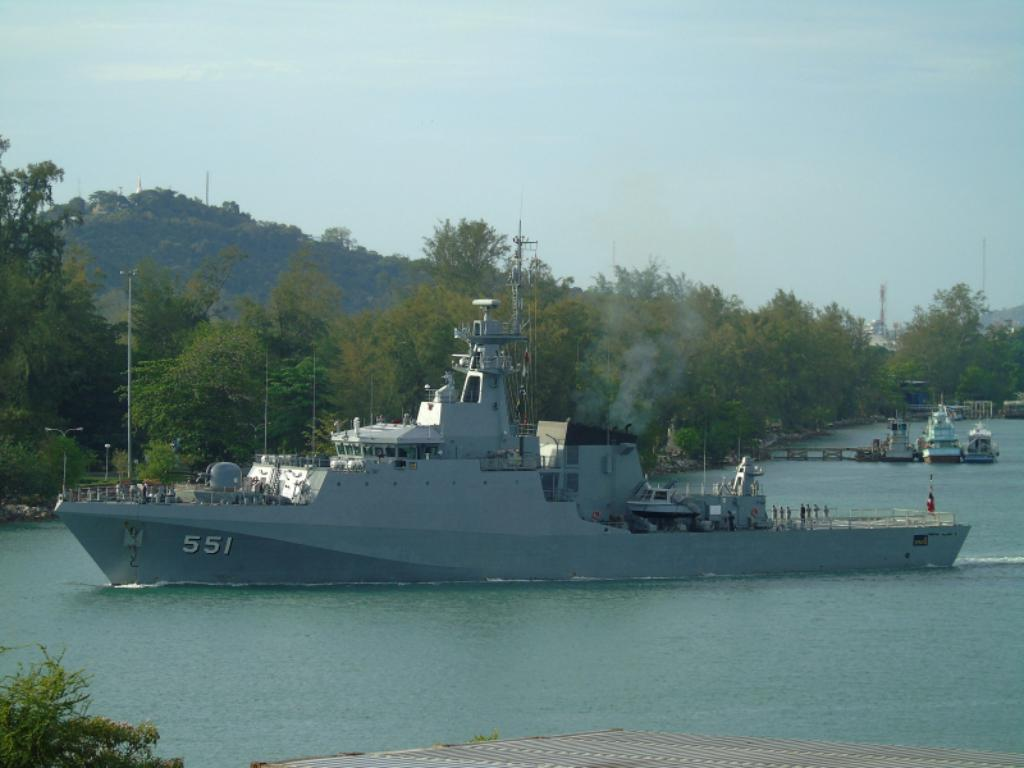PassengerShip: (914, 401, 968, 463), (880, 416, 916, 463), (964, 424, 1002, 462)
